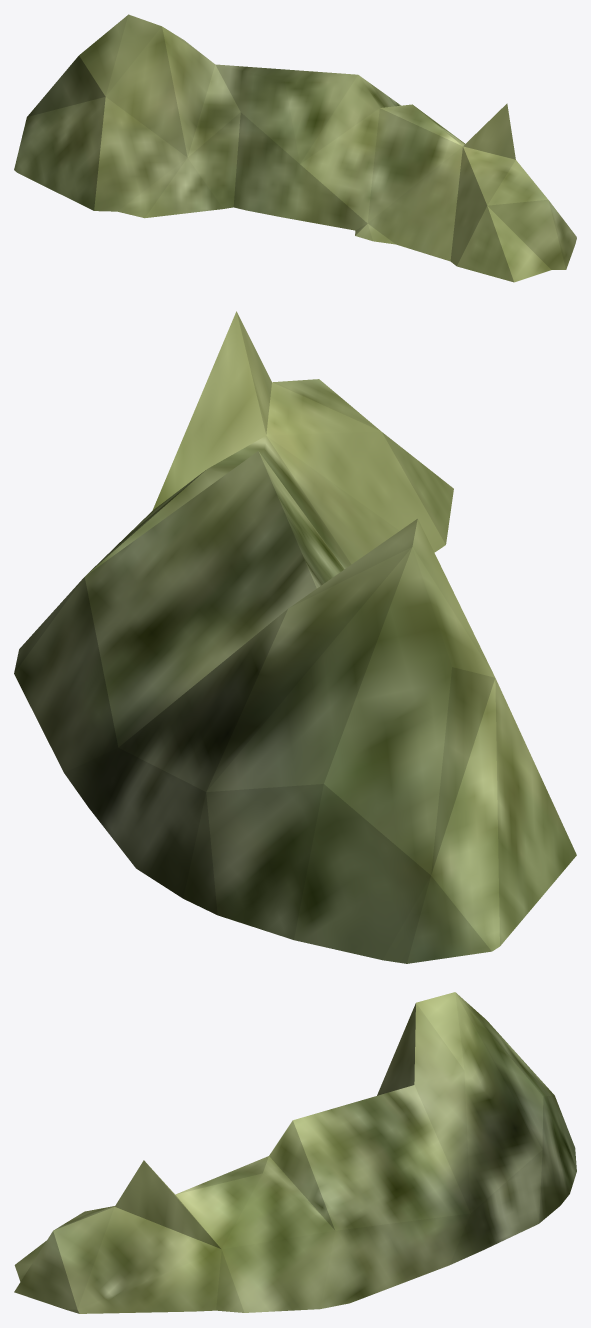
3 renders of one model, top to bottom at view 1: azimuth 30°, elevation 25°; view 2: azimuth 150°, elevation 25°; view 3: azimuth 270°, elevation 25°, orthographic. The views are drawn at different scales.
Size of the model in its own units: 1.35 by 0.5967 by 1.72.
1 material, 1 textured.
